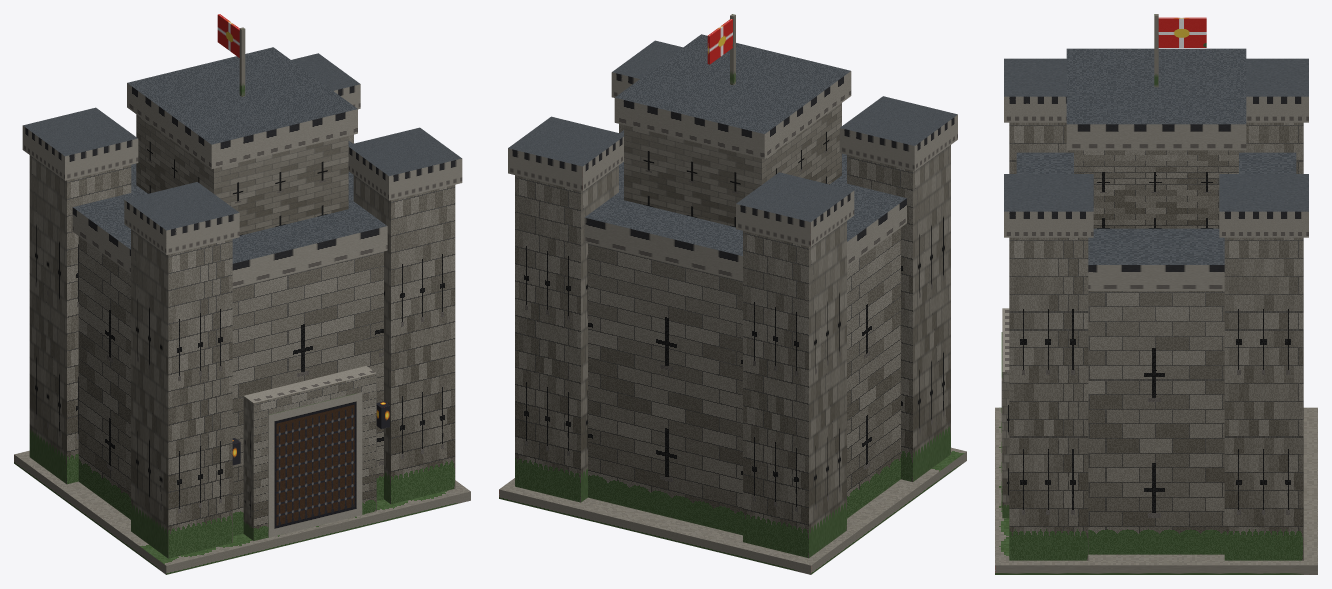
Rendered from landmark_gothic_castle.glb.
3 renders of one model, left to right at view 1: azimuth 30°, elevation 25°; view 2: azimuth 150°, elevation 25°; view 3: azimuth 270°, elevation 25°, orthographic. The views are drawn at different scales.
Visible parts, largest first — view 1: Landmark_Gothic_Castle; view 2: Landmark_Gothic_Castle; view 3: Landmark_Gothic_Castle.
Boxes of the visible parts, x1,y1,x2,y2 form: Landmark_Gothic_Castle: [14, 14, 470, 574]; Landmark_Gothic_Castle: [499, 14, 966, 574]; Landmark_Gothic_Castle: [995, 14, 1317, 574].
Size of the model in its own units: 10.4 by 14.8 by 9.
1 material, 1 textured.
